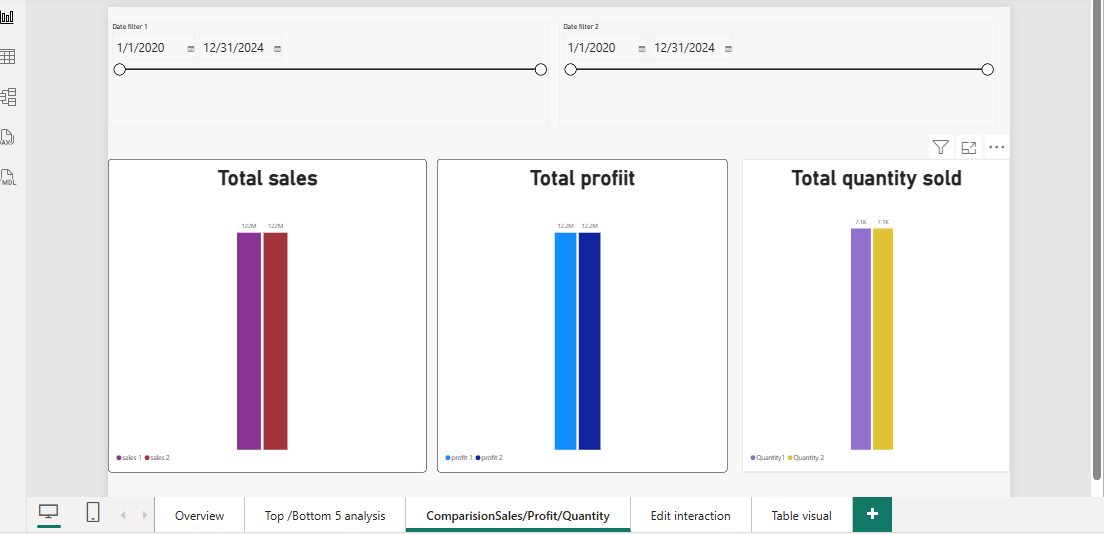

This screenshot's page, from the dashboard's own definition file:
{"tool":"powerbi","page":{"name":"ComparisionSales/Profit/Quantity","canvas":[1920,1080],"ordinal":2},"visuals":[{"type":"slicer","fields":{"Values":["Date Table 1.Date"]},"box":[0,31.1,937.8,222.2],"z":0},{"type":"slicer","fields":{"Values":["Date Table 2.Date"]},"box":[960,31.1,928.9,222.2],"z":1000},{"type":"clusteredColumnChart","title":"Total sales","fields":{"Y":["Sum(Fact Table.Net Sales)","Date Table 1.sum of net sales"]},"box":[0,324.4,677.8,666.7],"z":2000},{"type":"clusteredColumnChart","title":"Total profiit ","fields":{"Y":["Sum(Fact Table.Profit)","measures Table.Total Profit"]},"box":[700,324.4,617.8,666.7],"z":3000},{"type":"clusteredColumnChart","title":"Total quantity sold","fields":{"Y":["Sum(Fact Table.Units Sold)","measures Table.Quantity sold"]},"box":[1348.9,324.4,571.1,666.7],"z":4000}]}

Visuals, with their boxes on the page's 1920x1080 design canvas (x1, y1, x2, y2). These are canvas units, not pixel positions in the 1104x534 screenshot, which may show the page scaled, cropped or inside an application window:
slicer - Date Table 1.Date: (left=0, top=31, right=938, bottom=253)
slicer - Date Table 2.Date: (left=960, top=31, right=1889, bottom=253)
"Total sales" clusteredColumnChart: (left=0, top=324, right=678, bottom=991)
"Total profiit " clusteredColumnChart: (left=700, top=324, right=1318, bottom=991)
"Total quantity sold" clusteredColumnChart: (left=1349, top=324, right=1920, bottom=991)
